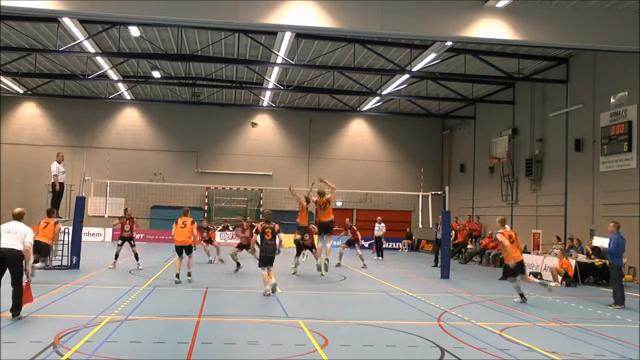alzata: (288, 180, 313, 262)
